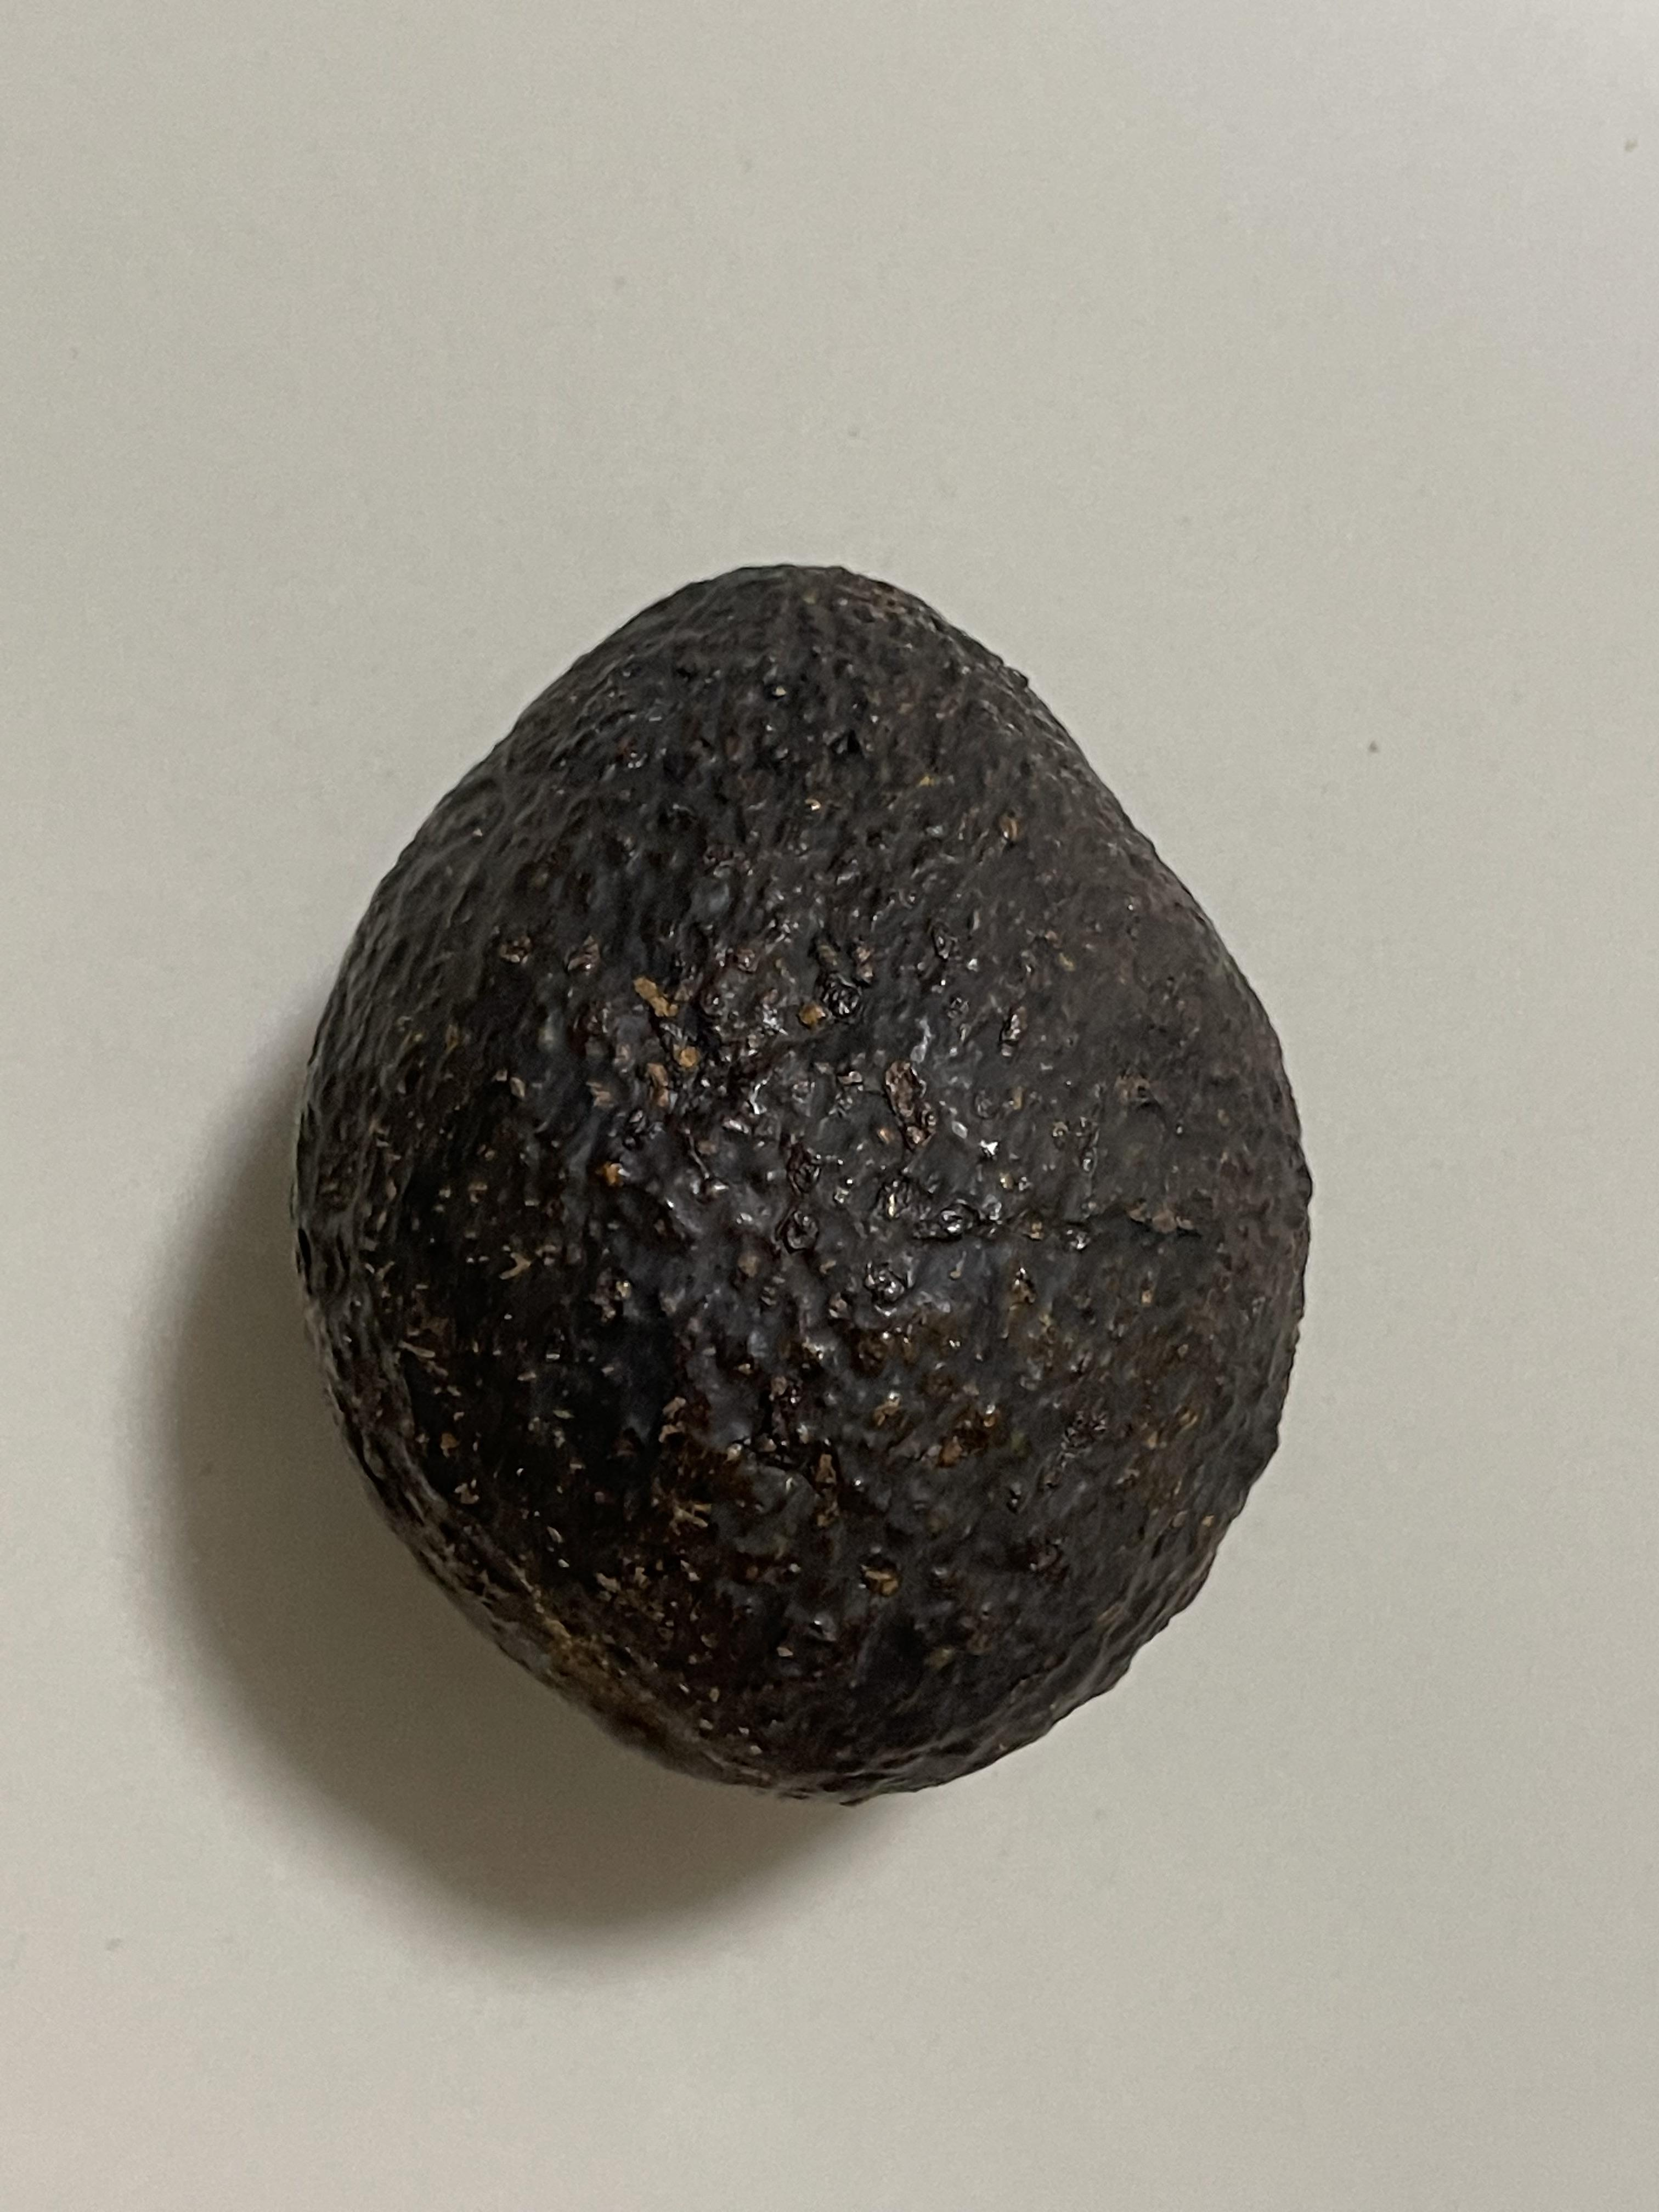Level3: (268, 538, 1354, 1832)
